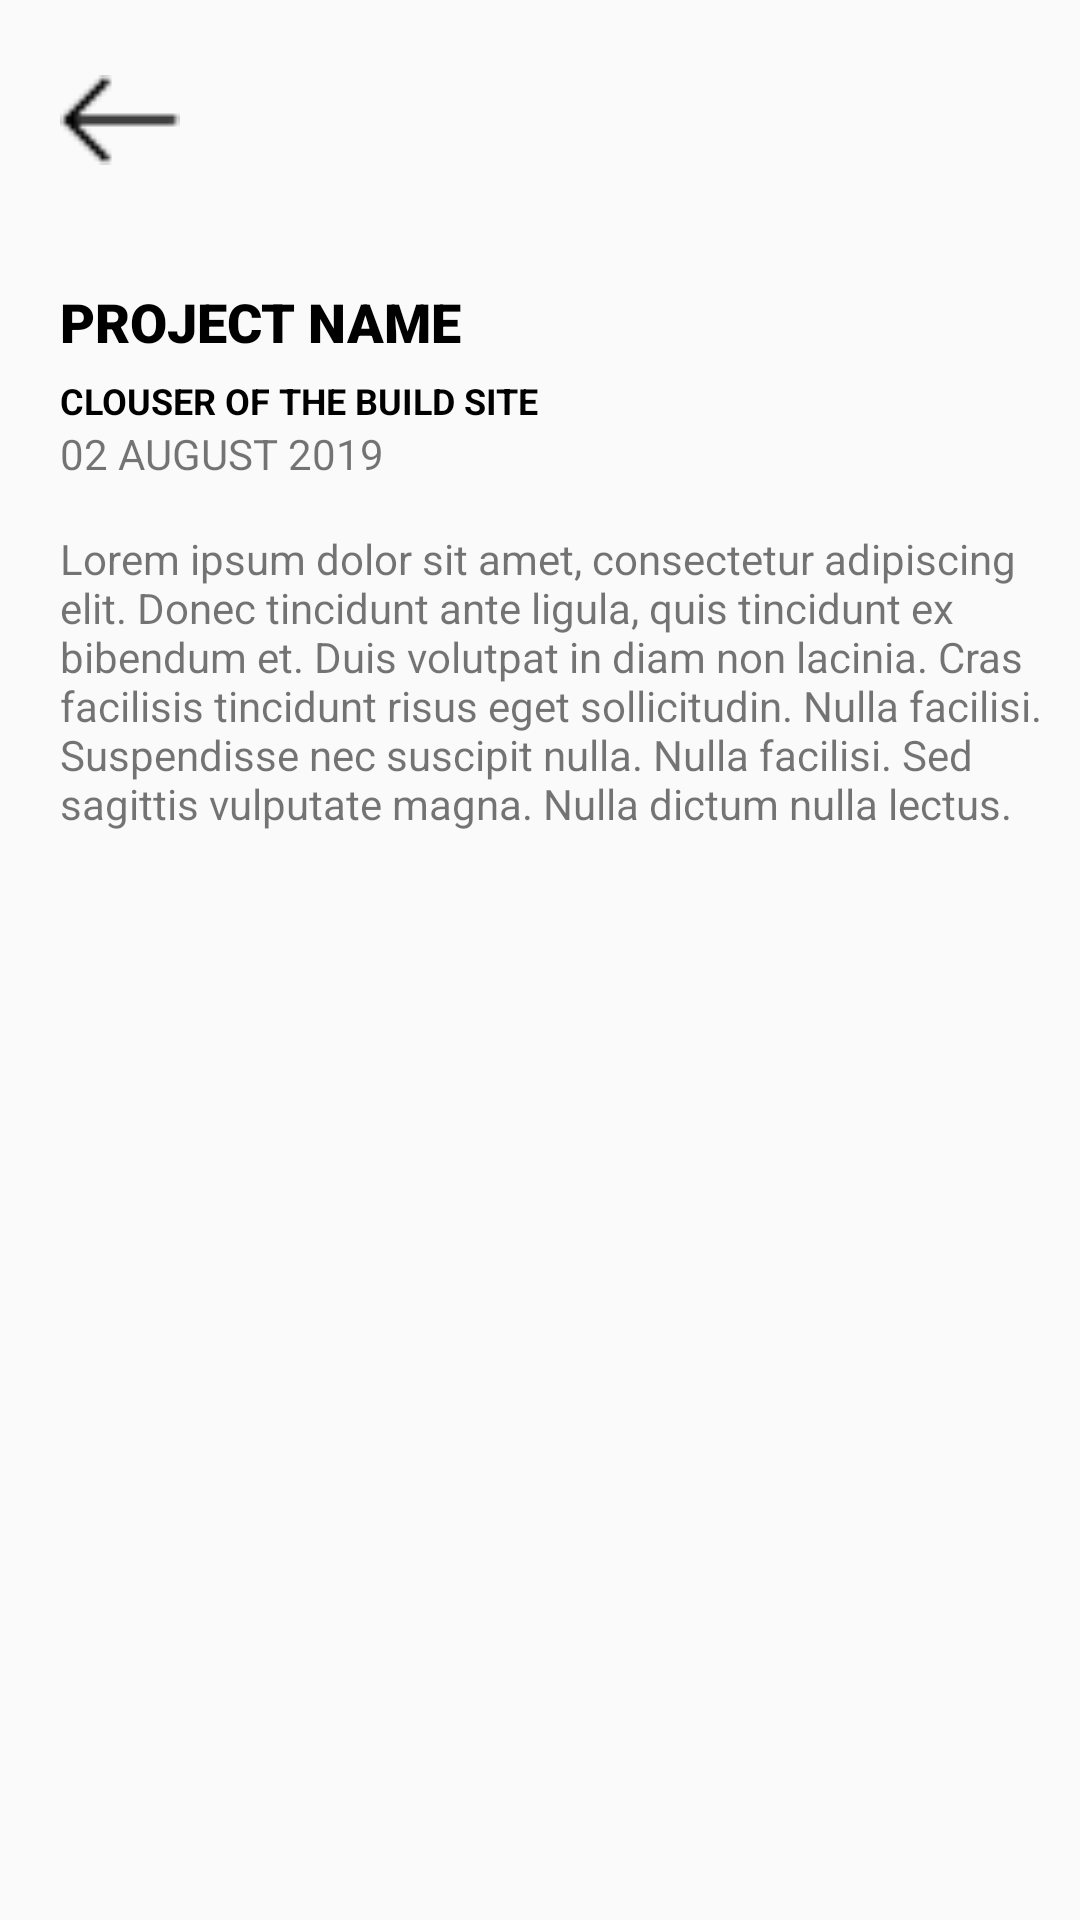

Where to tap for icons on this 1080x1920 app screen, as (x,y):
go back botton: (120,120)
